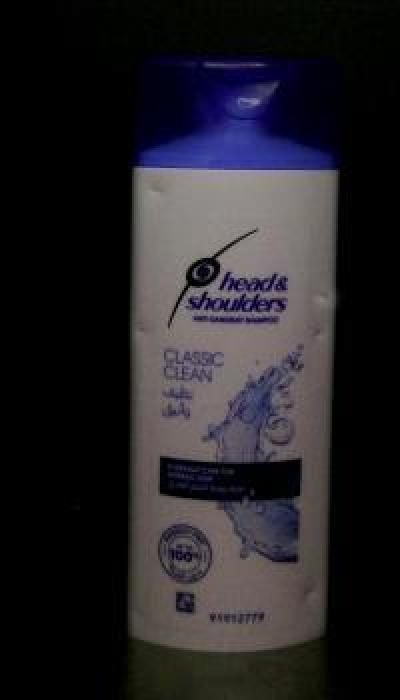dent_unacc: (131, 318, 161, 354), (142, 177, 174, 207), (307, 320, 335, 354), (299, 577, 323, 615), (310, 281, 336, 313)
